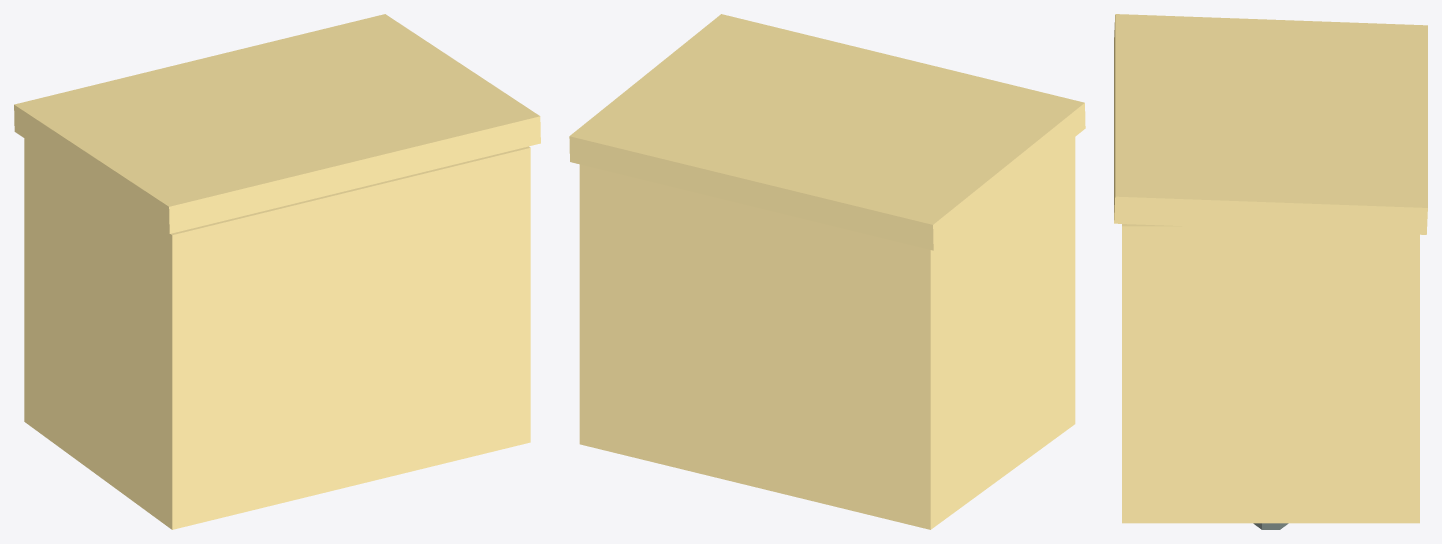
The model's file is SM_Contenedor_v2_Reciclaje_LOD0.fbx.
3 renders of one model, left to right at view 1: azimuth 30°, elevation 25°; view 2: azimuth 150°, elevation 25°; view 3: azimuth 270°, elevation 25°, orthographic. The views are drawn at different scales.
Parts seen in each view (by area): view 1: SM_urbano_extra_v2_LOD0; view 2: SM_urbano_extra_v2_LOD0; view 3: SM_urbano_extra_v2_LOD0.
Boxes of the visible parts, left/top/right/bottom form: SM_urbano_extra_v2_LOD0: left=14, top=14, right=540, bottom=529; SM_urbano_extra_v2_LOD0: left=569, top=14, right=1085, bottom=529; SM_urbano_extra_v2_LOD0: left=1114, top=14, right=1427, bottom=529.
Size of the model in its own units: 1.45 by 1.29 by 1.05.
